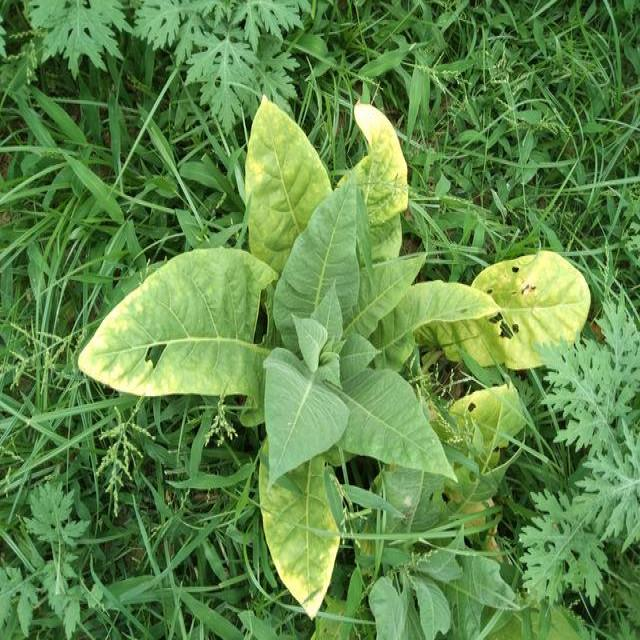crop: (76, 104, 591, 633)
